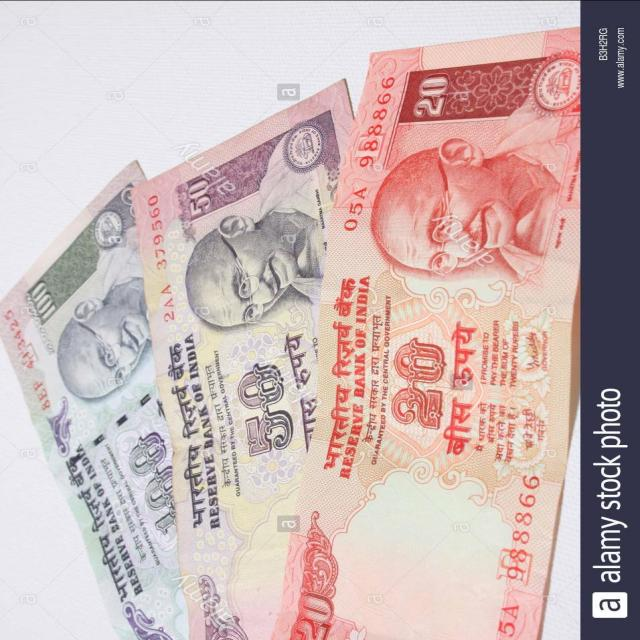50IndianRupees: (154, 85, 402, 639)
